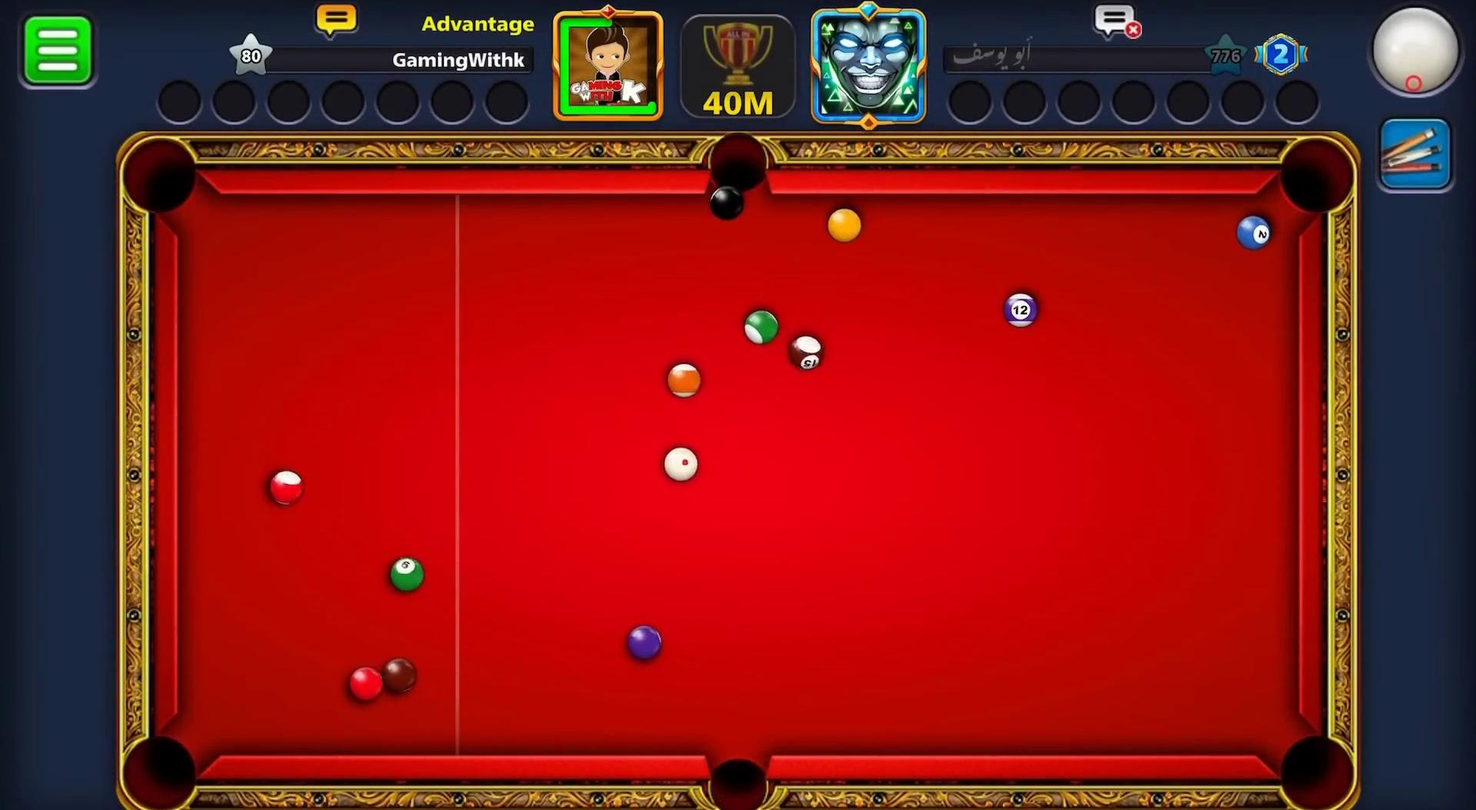Ball: (745, 307, 782, 349), (381, 656, 418, 695), (268, 470, 305, 509), (666, 364, 703, 401), (389, 556, 425, 593), (627, 624, 663, 661), (348, 665, 384, 702), (826, 209, 864, 244), (1235, 215, 1270, 253), (1004, 292, 1041, 326), (788, 336, 825, 369), (708, 187, 742, 220)
Hole: (121, 135, 199, 219), (1277, 734, 1362, 810), (1277, 136, 1355, 214), (122, 734, 199, 807), (699, 757, 772, 810), (708, 133, 767, 194)
Play_Area: (180, 192, 1300, 754)
Spin: (1372, 8, 1461, 97)
White: (661, 444, 698, 484)
